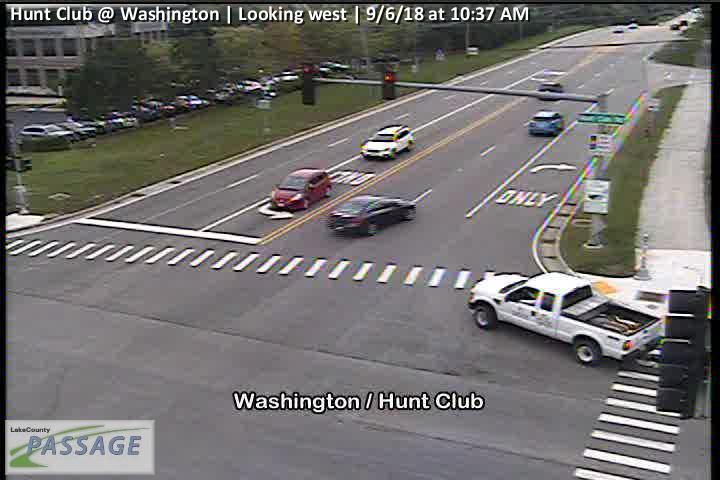SUV: (270, 169, 331, 211), (360, 124, 416, 161), (17, 123, 76, 147), (528, 111, 564, 139), (537, 81, 563, 100)
Sedan: (327, 195, 417, 236)
Truck: (468, 271, 661, 367)
